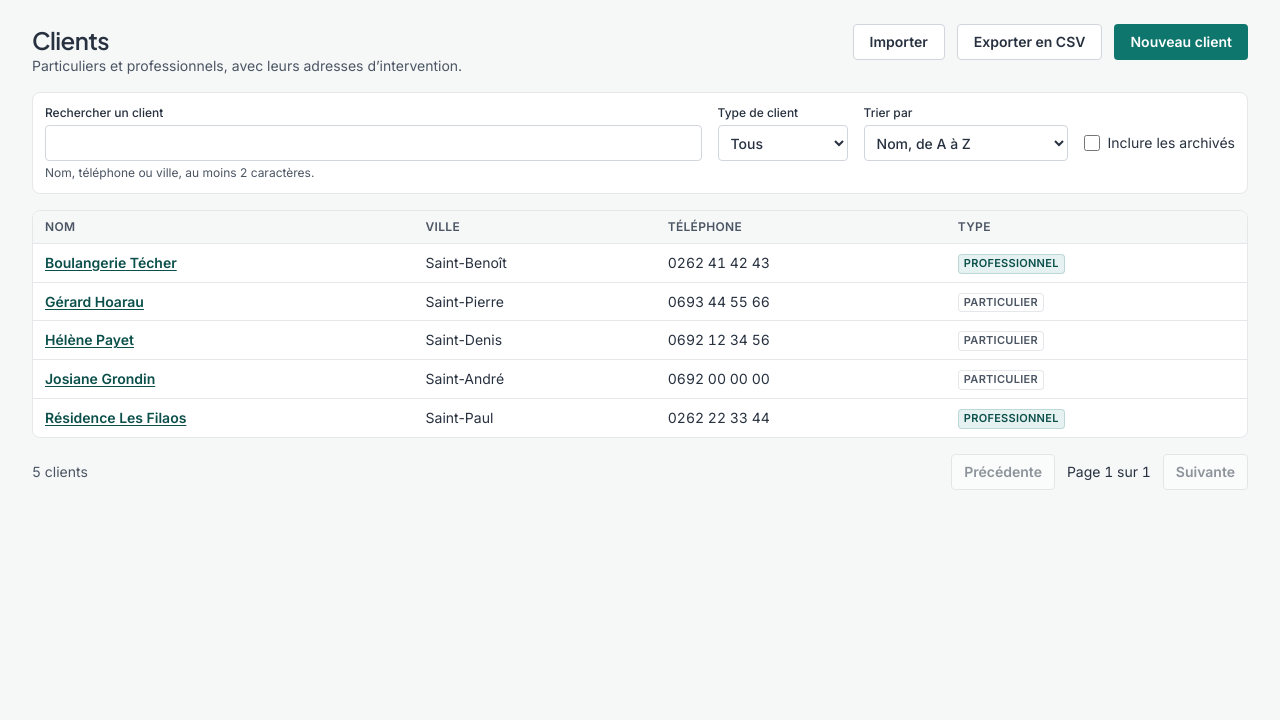
Scenario: export des clients en CSV (US32) › US32 : le refus de l’export disparaît dès que l’utilisateur affine les filtres
Check: the link "Hélène Payet" is shown, box [45,331,134,348]
Click the button "Exporter en CSV": (1030, 42) [957,24,1102,60]
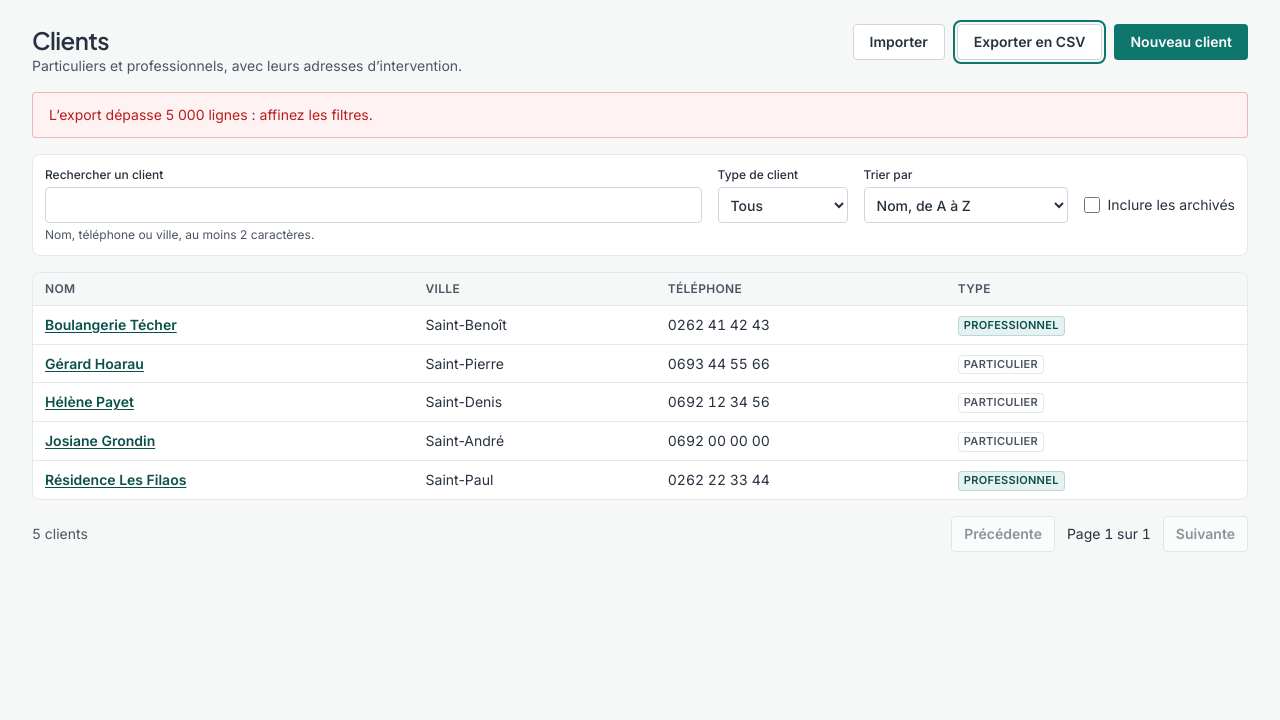
Check: the message reads "L’export dépasse 5 000 lignes : affinez les filtres.", box [49,106,373,123]
Select "Particulier" in the dropdown labelled "Type de client": (783, 205) [718,187,848,223]
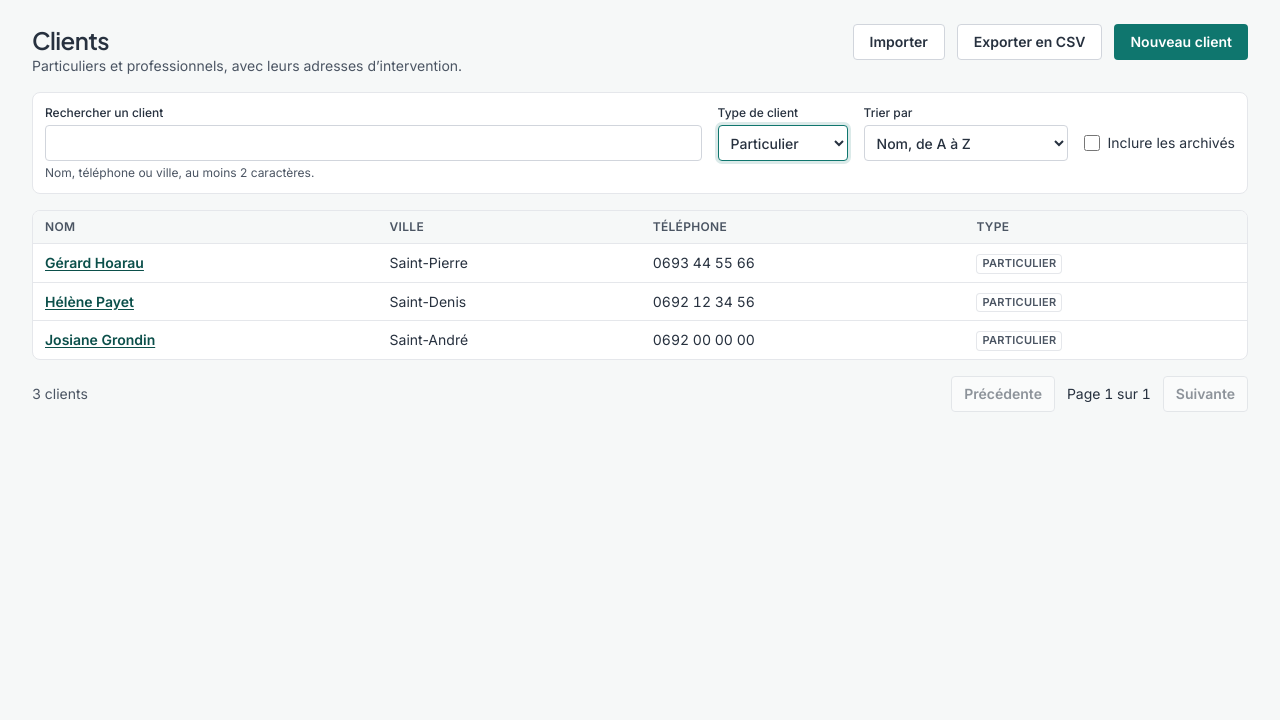
Check: the message "L’export dépasse 5 000 lignes : affinez les filtres." is gone
